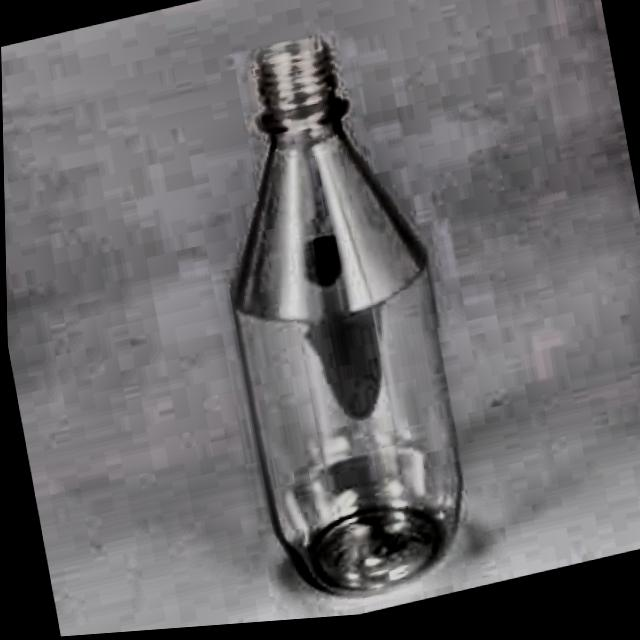Bottles: (167, 0, 492, 630)
